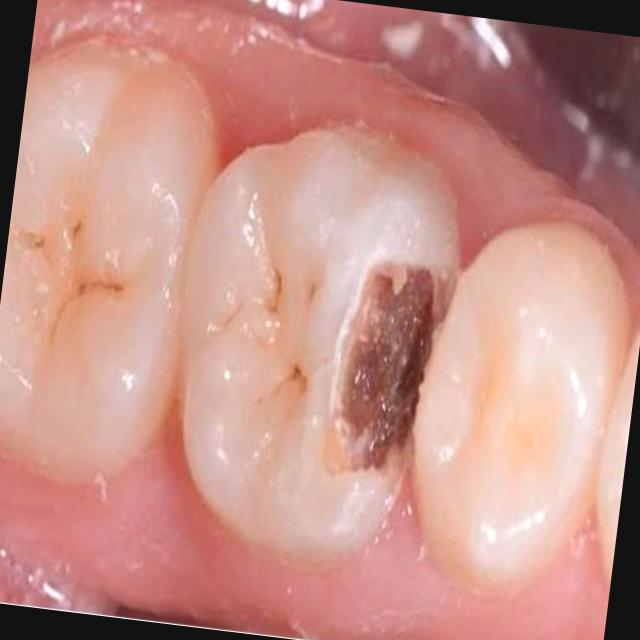caries: (153, 107, 467, 564)
